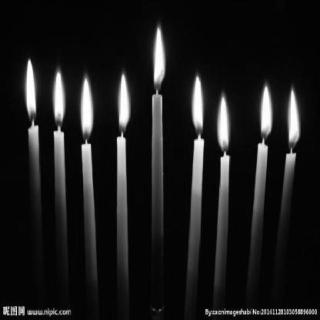Fire: (47, 63, 69, 129), (284, 83, 302, 151)
